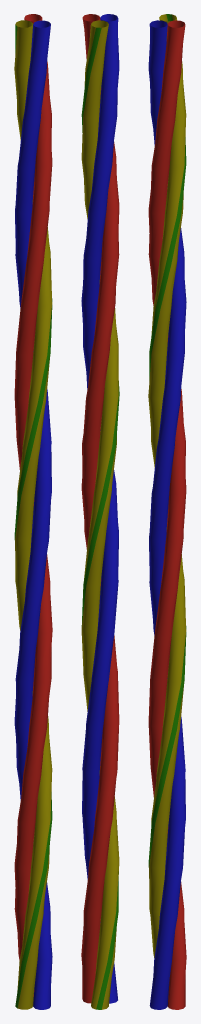
File: wires.fbx
3 renders of one model, left to right at view 1: azimuth 90°, elevation 25°; view 2: azimuth 150°, elevation 25°; view 3: azimuth 330°, elevation 25°, orthographic.
Visible parts, largest first — view 1: wires_LOD0; view 2: wires_LOD0; view 3: wires_LOD0.
Boxes of the visible parts, x1,y1,x2,y2 form: wires_LOD0: (14,14,52,1009); wires_LOD0: (81,14,119,1009); wires_LOD0: (148,14,186,1009).
Size of what is drawn, in the model's own units: 5.29 by 150 by 5.3.
